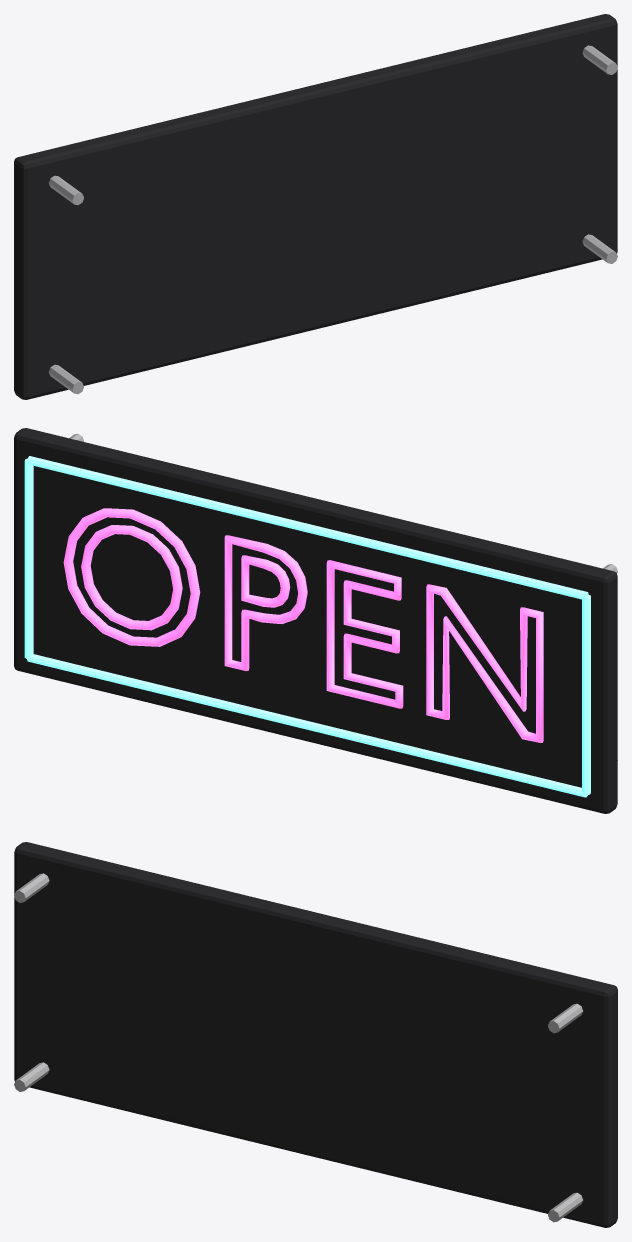
The model's file is neon_sign_open.glb.
3 renders of one model, top to bottom at view 1: azimuth 30°, elevation 25°; view 2: azimuth 150°, elevation 25°; view 3: azimuth 330°, elevation 25°, orthographic.
Visible parts, largest first — view 1: neon_sign_open; view 2: neon_sign_open; view 3: neon_sign_open.
Boxes of the visible parts, x1,y1,x2,y2 form: neon_sign_open: [14, 14, 617, 399]; neon_sign_open: [14, 428, 617, 813]; neon_sign_open: [14, 842, 617, 1227].
Bounding box in the file's own units: 1.52 × 0.58 × 0.181.
